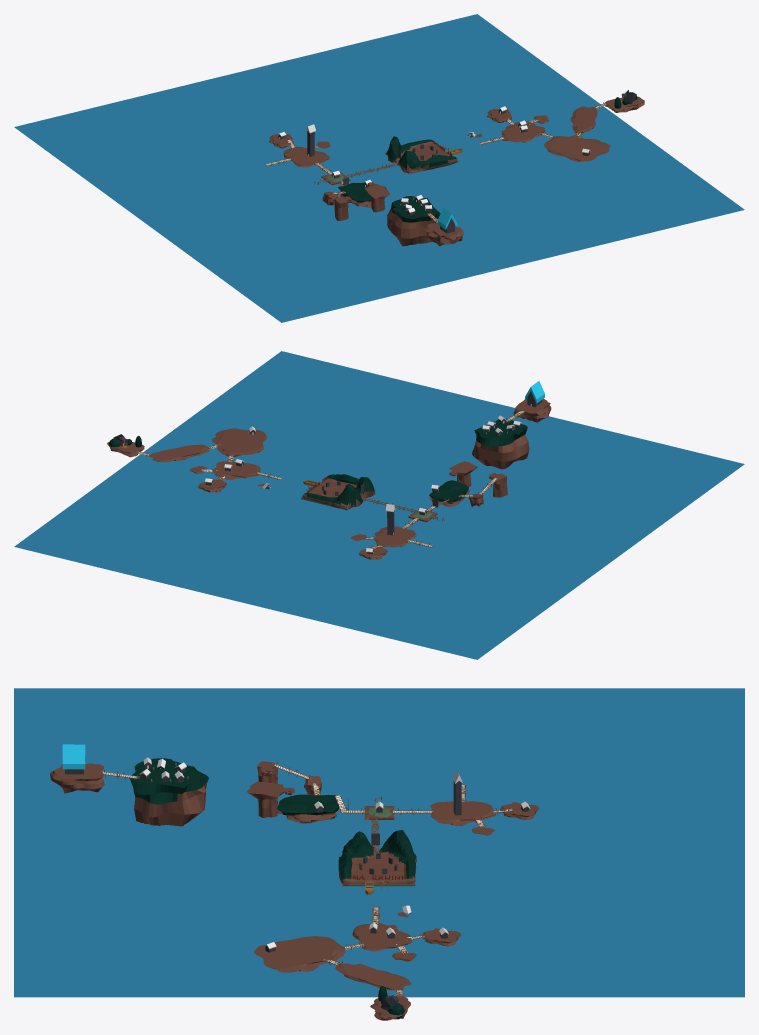
The model's file is Map1.fbx.
3 views of the same model, one above another, from view 1: azimuth 30°, elevation 25°; view 2: azimuth 150°, elevation 25°; view 3: azimuth 270°, elevation 25° (orthographic). The views are drawn at different scales.
Parts seen in each view (by area): view 1: Plane, Plane.001, Plane.003, Plane.010, Plane.015, Plane.007, Plane.011, Plane.030, Plane.002; view 2: Plane, Plane.001, Plane.003, Plane.010, Plane.002, Plane.011, Plane.007, Plane.015, Plane.030; view 3: Plane, Plane.001, Plane.003, Plane.010, Plane.002, Plane.015, Plane.011, Plane.030, Plane.007, Plane.020, Roof.007.
Part boxes in pixels (x1=…): Plane: x1=14, y1=14, x2=744, y2=322; Plane.001: x1=387, y1=196, x2=440, y2=246; Plane.003: x1=386, y1=136, x2=457, y2=173; Plane.010: x1=544, y1=134, x2=610, y2=162; Plane.015: x1=283, y1=146, x2=329, y2=167; Plane.007: x1=501, y1=121, x2=545, y2=142; Plane.011: x1=570, y1=106, x2=597, y2=133; Plane.030: x1=425, y1=222, x2=463, y2=246; Plane.002: x1=338, y1=182, x2=371, y2=207; Plane: x1=14, y1=351, x2=744, y2=659; Plane.001: x1=472, y1=418, x2=529, y2=469; Plane.003: x1=302, y1=474, x2=375, y2=508; Plane.010: x1=212, y1=428, x2=266, y2=456; Plane.002: x1=429, y1=480, x2=469, y2=506; Plane.011: x1=148, y1=444, x2=210, y2=462; Plane.007: x1=213, y1=461, x2=260, y2=479; Plane.015: x1=373, y1=526, x2=416, y2=547; Plane.030: x1=513, y1=398, x2=551, y2=422; Plane: x1=14, y1=688, x2=744, y2=997; Plane.001: x1=129, y1=758, x2=208, y2=826; Plane.003: x1=338, y1=830, x2=416, y2=885; Plane.010: x1=254, y1=936, x2=345, y2=972; Plane.002: x1=277, y1=794, x2=339, y2=823; Plane.015: x1=430, y1=801, x2=495, y2=825; Plane.011: x1=335, y1=963, x2=411, y2=990; Plane.030: x1=50, y1=763, x2=104, y2=793; Plane.007: x1=352, y1=923, x2=412, y2=951; Plane.020: x1=246, y1=781, x2=285, y2=817; Roof.007: x1=62, y1=744, x2=85, y2=769.
Size of what is drawn, in the model's own units: 753 by 98.92 by 700.
